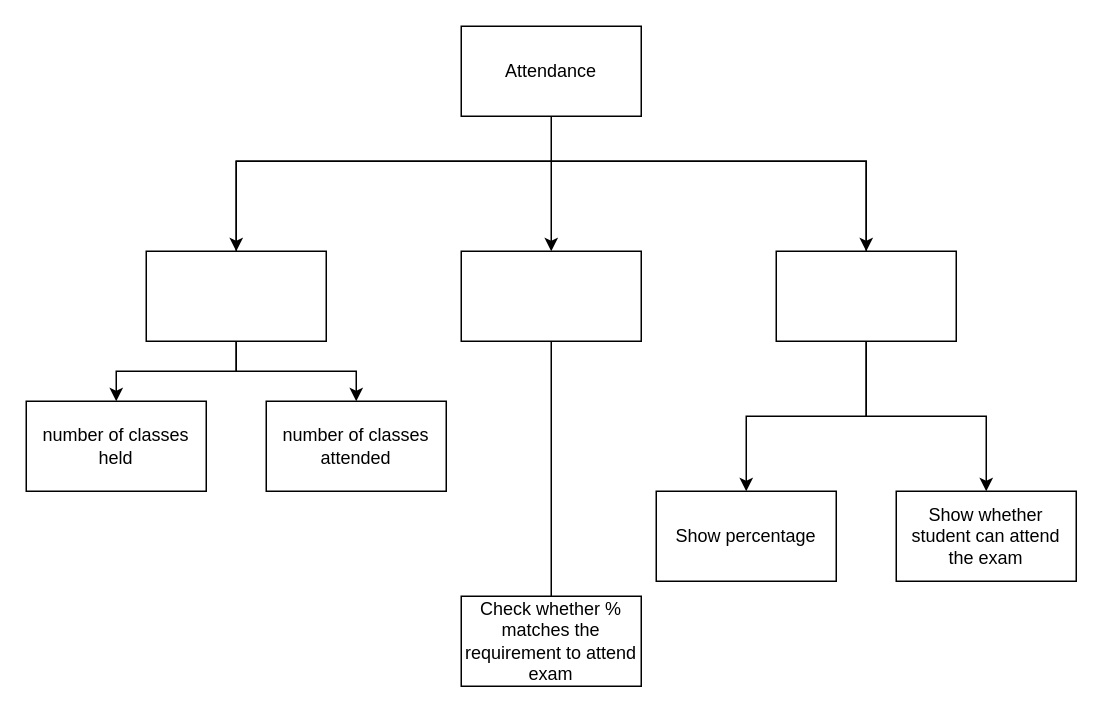
This 1103x713 diagram has some shape labels left out. The centre of each missing label's shape, as x and y in pixels:
Input: (235,295)
Output: (865,295)
Process: (550,295)
